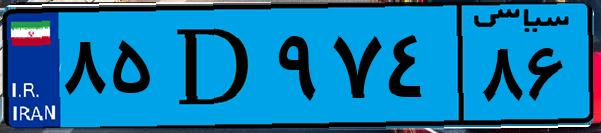4: (385, 28, 445, 110)
5: (110, 28, 158, 98)
6: (525, 38, 570, 115)
7: (330, 28, 385, 110)
8: (57, 26, 110, 100), (475, 38, 525, 113)
9: (270, 28, 330, 110)
D: (158, 12, 270, 120)
